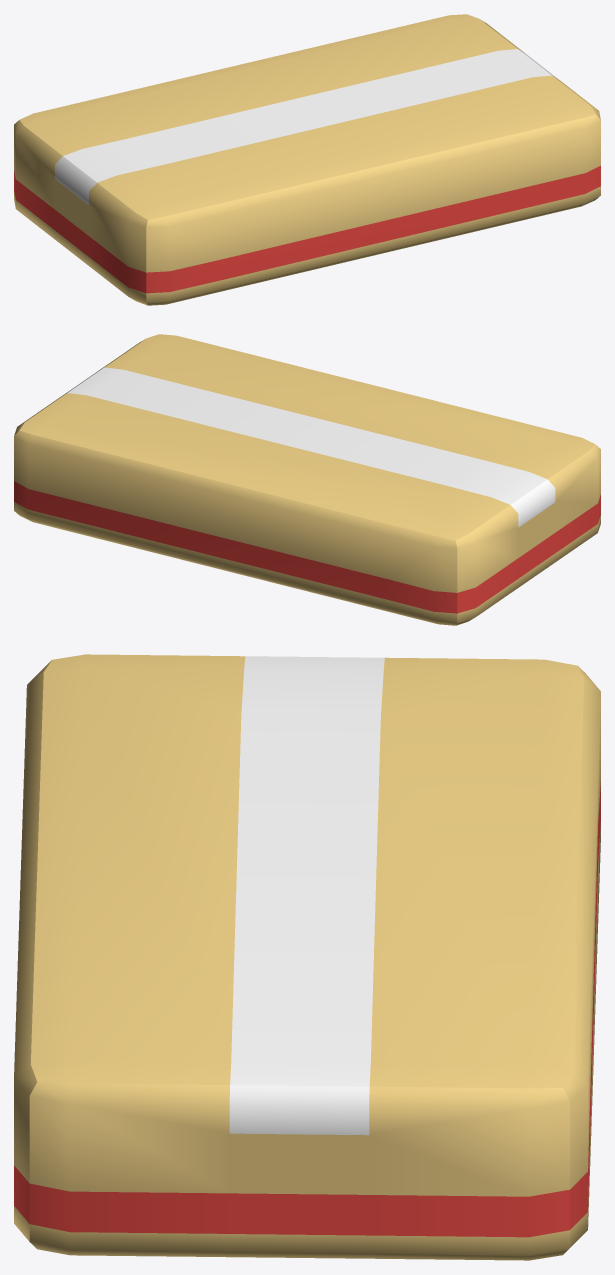
File: Props_Box_Red_03.fbx
The picture shows the model from 3 angles, top to bottom: view 1: azimuth 30°, elevation 25°; view 2: azimuth 150°, elevation 25°; view 3: azimuth 270°, elevation 25°; orthographic projection. The views are drawn at different scales.
Parts seen in each view (by area): view 1: Props_Box_Red_03; view 2: Props_Box_Red_03; view 3: Props_Box_Red_03.
Part boxes in pixels (left/top/right/bottom): Props_Box_Red_03: left=14, top=14, right=600, bottom=305; Props_Box_Red_03: left=14, top=334, right=600, bottom=625; Props_Box_Red_03: left=14, top=654, right=600, bottom=1260.
Size of the model in its own units: 96.84 by 18.37 by 53.48.
